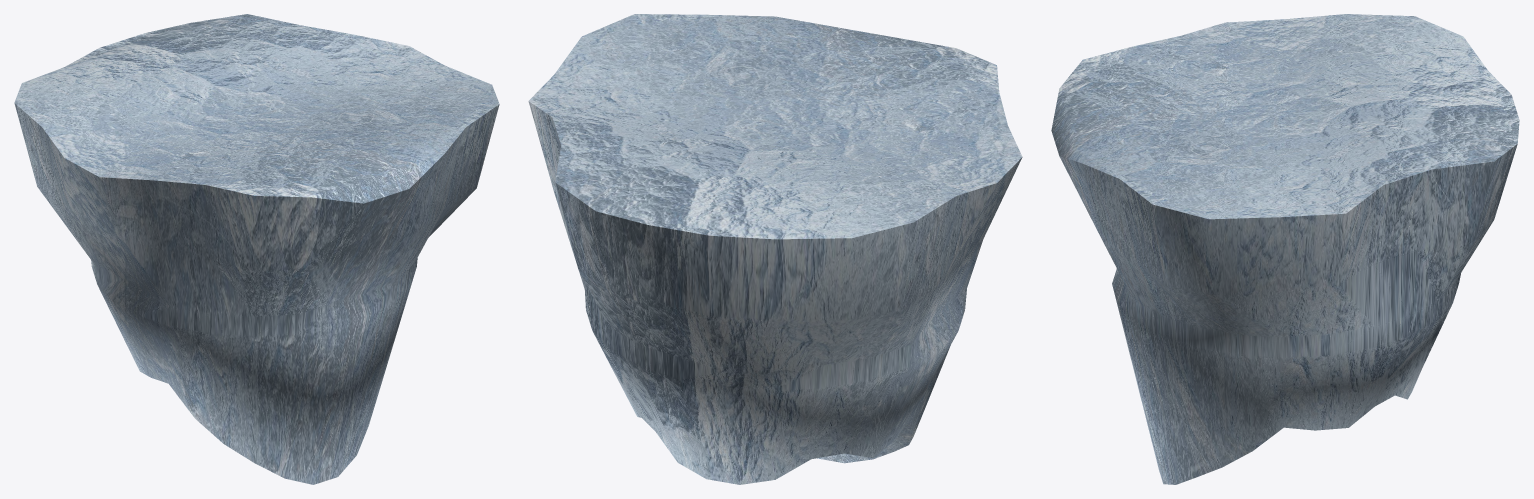
File: Iceberg gran.FBX
The picture shows the model from 3 angles, left to right: view 1: azimuth 30°, elevation 25°; view 2: azimuth 150°, elevation 25°; view 3: azimuth 270°, elevation 25°; orthographic projection. The views are drawn at different scales.
Parts seen in each view (by area): view 1: Cone001; view 2: Cone001; view 3: Cone001.
Part boxes in pixels (<box>): Cone001: <box>14,14,499,484</box>; Cone001: <box>528,14,1022,484</box>; Cone001: <box>1051,14,1519,484</box>.
Size of the model in its own units: 1738 by 1434 by 1685.
Materials: 1 (1 with a texture image).
